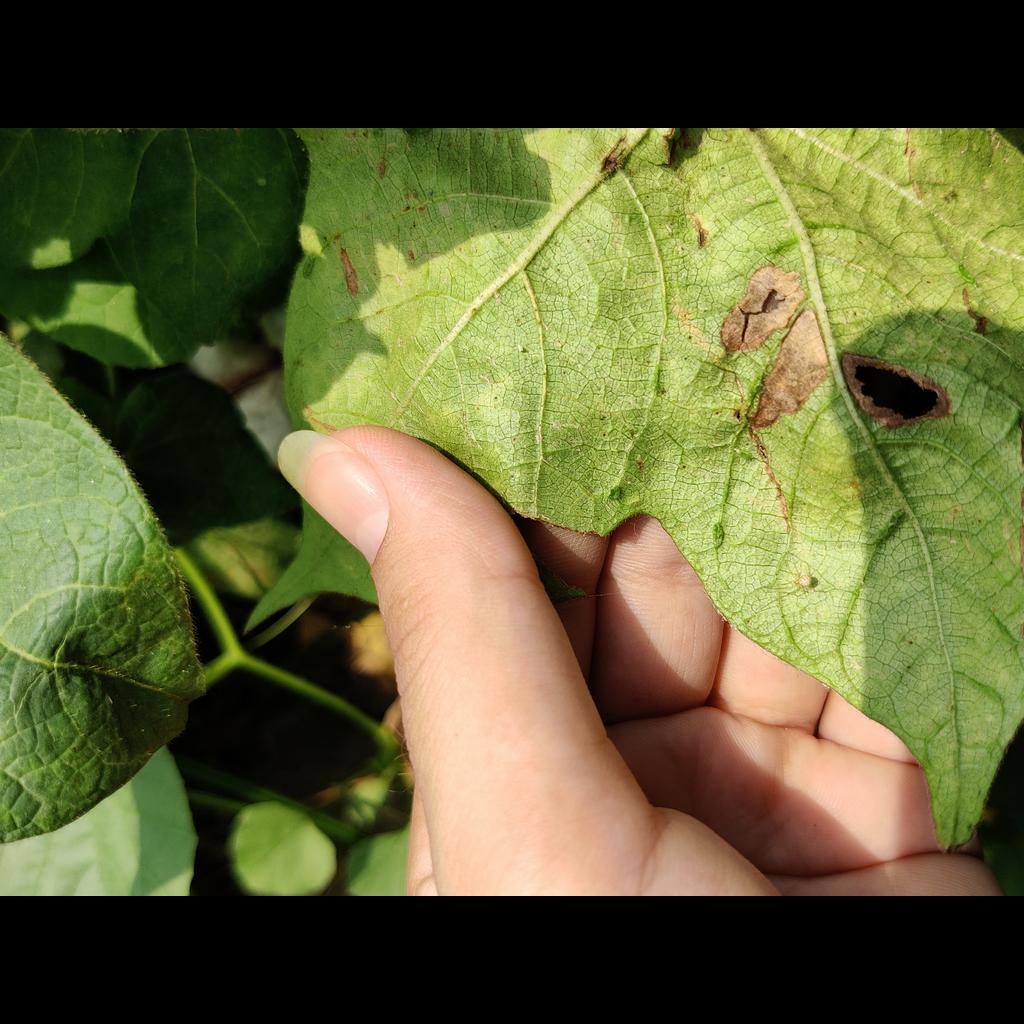nymph: (518, 345, 523, 353)
